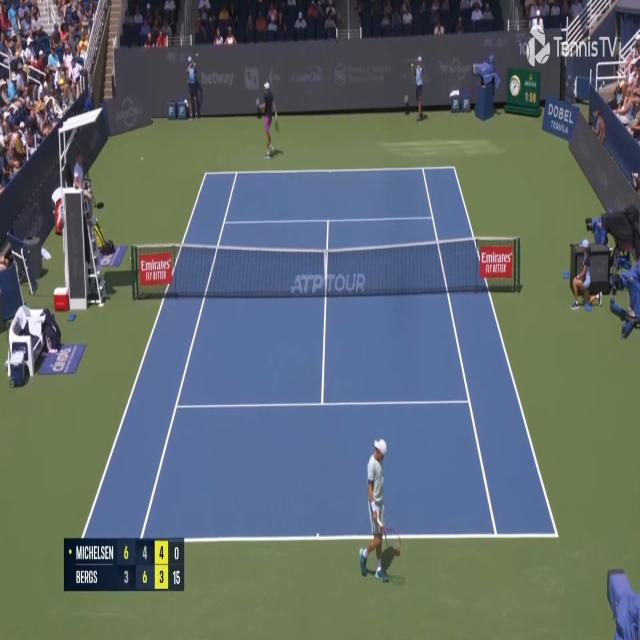tennis-player: (359, 434, 398, 587), (256, 79, 280, 160)
